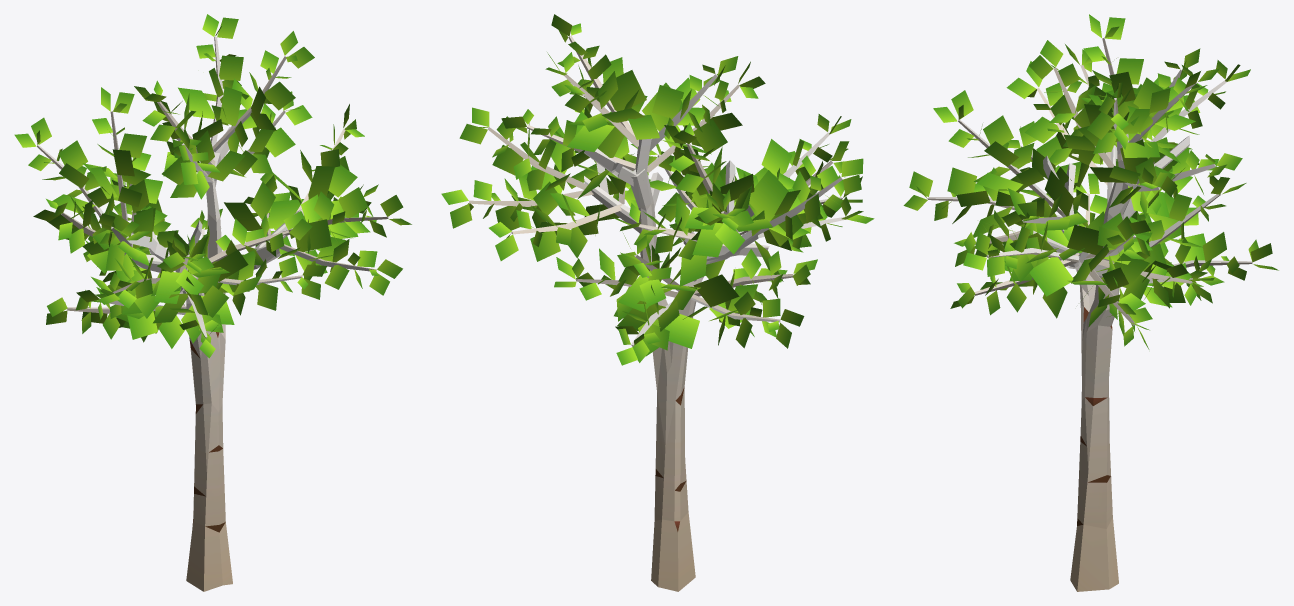
The picture shows the model from 3 angles, left to right: view 1: azimuth 30°, elevation 25°; view 2: azimuth 150°, elevation 25°; view 3: azimuth 270°, elevation 25°; orthographic projection. The views are drawn at different scales.
Visible parts, largest first — view 1: Tree3_BirchYoung; view 2: Tree3_BirchYoung; view 3: Tree3_BirchYoung.
Part boxes in pixels (x1,y1,x2,y2): Tree3_BirchYoung: (14, 14, 411, 591); Tree3_BirchYoung: (441, 14, 874, 591); Tree3_BirchYoung: (903, 14, 1278, 591).
Bounding box in the file's own units: 299 × 400 × 246.
1 material, 1 textured.
